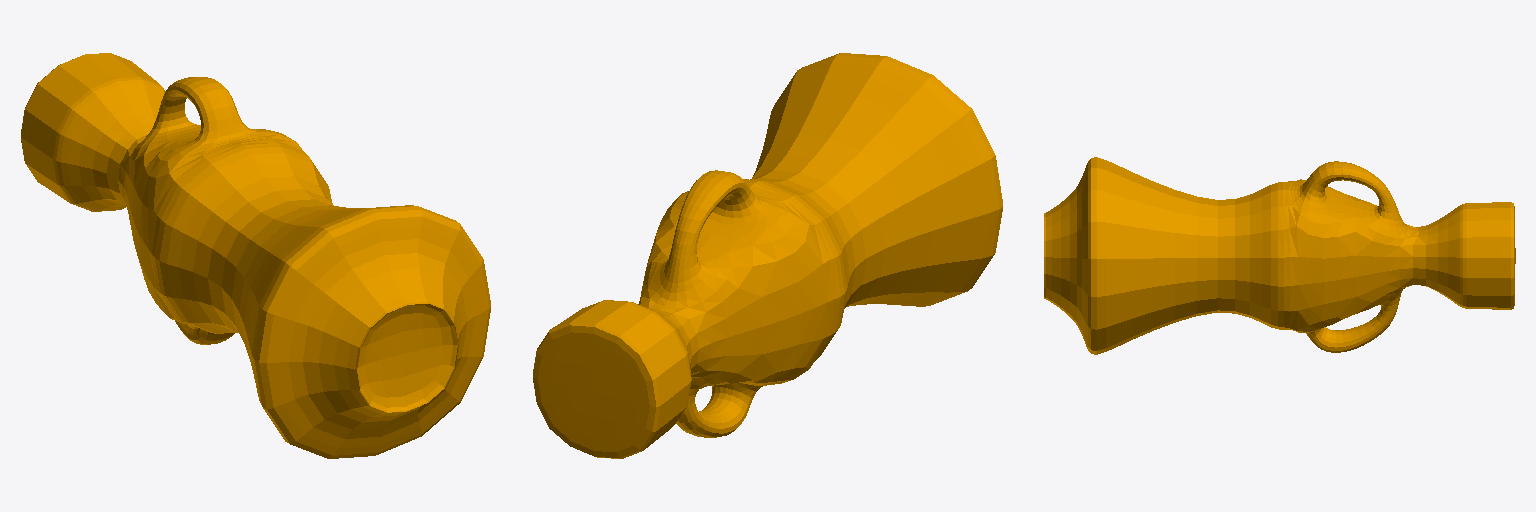
URDF robot description (32):
<?xml version="1.0" ?>
<robot name="32">
  <link name="body">
    <visual>
      <geometry>
        <mesh filename="../shapes/32.obj"/>
      </geometry>
    </visual>
    <collision>
      <geometry>
        <mesh filename="../shapes/32.obj"/>
      </geometry>
    </collision>
  </link>
</robot>

--- Facts derived from the render (not from the file) ---
3 views of the same robot in one strip: view 1: azimuth 30°, elevation 25°; view 2: azimuth 150°, elevation 25°; view 3: azimuth 270°, elevation 25° (orthographic).
Robot: 32 — 1 links, 0 joints (none); root link body; default pose: all joints at 0.
Links seen in each view (by area): view 1: body; view 2: body; view 3: body.
Boxes of the visible links, x1,y1,x2,y2 form: body: (21,53,490,458); body: (533,53,1002,458); body: (1044,157,1515,354).
Bounding box of the posed robot: 4.87 × 11.8 × 5.14 m (x, y, z).
1 mesh visuals loaded from 1 distinct referenced files (1 OBJ).